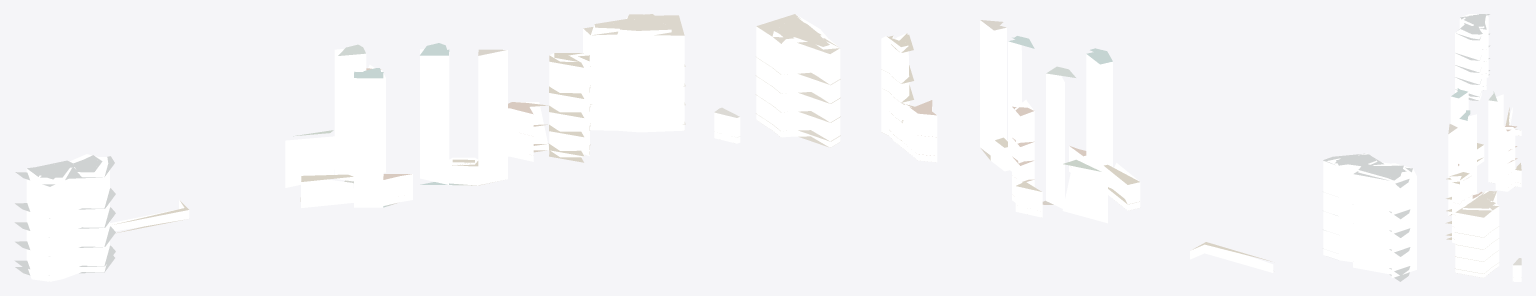
File: buildings-10_4-coarse.glb
3 renders of one model, left to right at view 1: azimuth 30°, elevation 25°; view 2: azimuth 150°, elevation 25°; view 3: azimuth 270°, elevation 25°, orthographic. The views are drawn at different scales.
Parts seen in each view (by area): view 1: block_10_4_residential, block_10_4_office, block_10_4_roof; view 2: block_10_4_residential, block_10_4_office, block_10_4_roof; view 3: block_10_4_residential, block_10_4_office, block_10_4_roof.
Part boxes in pixels (x1=…): block_10_4_residential: x1=26, y1=17, x2=684, y2=281; block_10_4_office: x1=334, y1=49, x2=507, y2=207; block_10_4_roof: x1=14, y1=14, x2=685, y2=275; block_10_4_residential: x1=714, y1=15, x2=1416, y2=277; block_10_4_office: x1=980, y1=20, x2=1112, y2=208; block_10_4_roof: x1=714, y1=14, x2=1412, y2=281; block_10_4_residential: x1=1449, y1=14, x2=1521, y2=281; block_10_4_office: x1=1448, y1=92, x2=1503, y2=215; block_10_4_roof: x1=1445, y1=14, x2=1521, y2=277.
Bounding box in the file's own units: 294 × 59.21 × 45.68.
